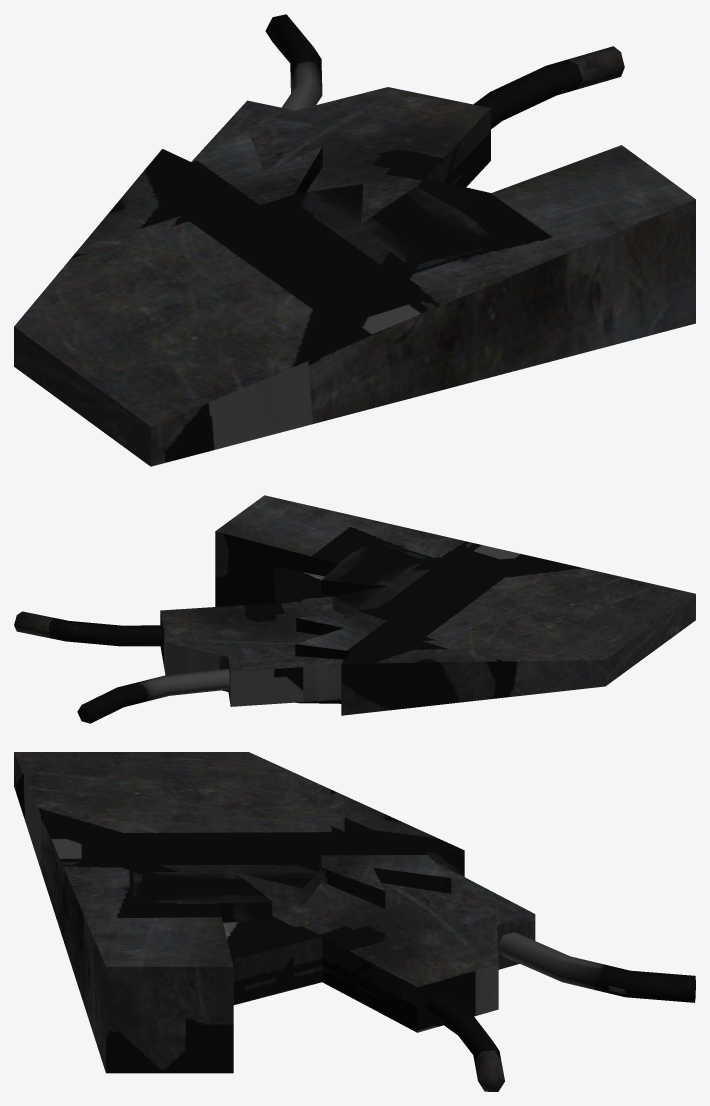
The model's file is spacejunk12.fbx.
3 renders of one model, top to bottom at view 1: azimuth 30°, elevation 25°; view 2: azimuth 150°, elevation 25°; view 3: azimuth 270°, elevation 25°, orthographic. The views are drawn at different scales.
Parts seen in each view (by area): view 1: PipelineFBX; view 2: PipelineFBX; view 3: PipelineFBX.
Boxes of the visible parts, box(x1,y1,x2,y2) form: PipelineFBX: box(14, 14, 695, 466); PipelineFBX: box(14, 495, 695, 723); PipelineFBX: box(14, 752, 695, 1091).
Size of the model in its own units: 109 by 17.32 by 100.
1 material, 1 textured.
